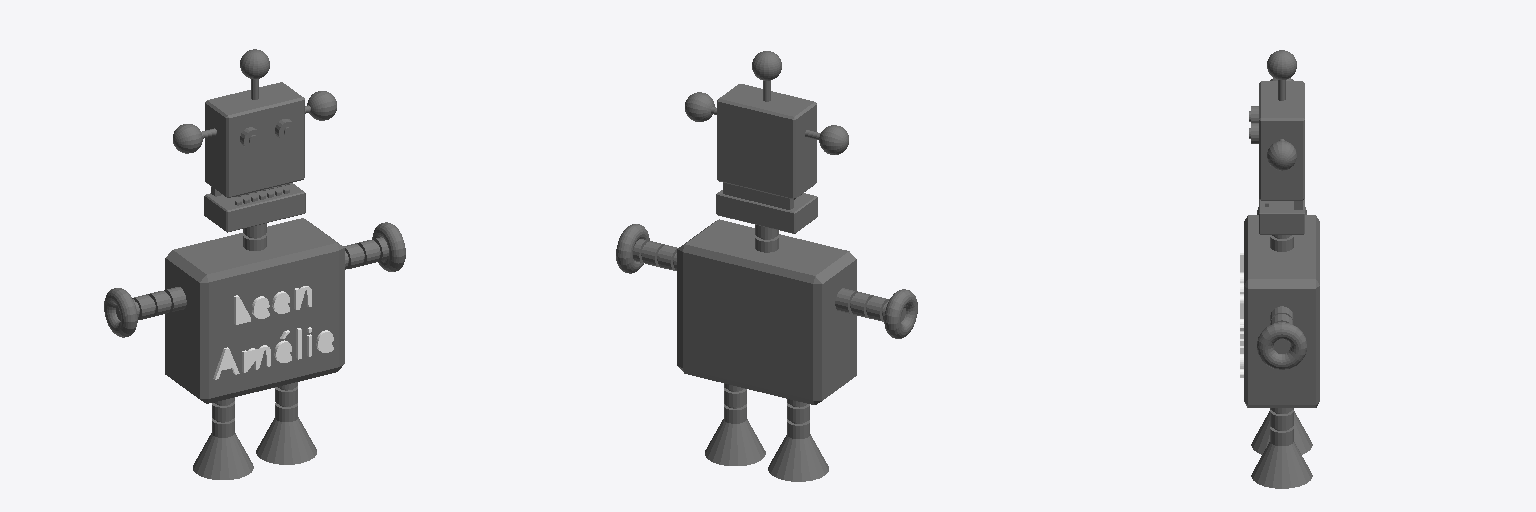
File: rob_obj.obj
3 views of the same model, side by side, from view 1: azimuth 30°, elevation 25°; view 2: azimuth 150°, elevation 25°; view 3: azimuth 270°, elevation 25° (orthographic).
Visible parts, largest first — view 1: pCube18, pCylinder15 polySurface3, pCylinder15 polySurface4, pCone2, pCone3, pTorus3, pTorus2, typeMesh1, typeMesh2, pCylinder15 polySurface13, pCylinder15 polySurface11, pCylinder15 polySurface15; view 2: pCube18, pCylinder15 polySurface3, pCone3, pCone2, pCylinder15 polySurface4, pTorus3, pTorus2, pCylinder15 polySurface30, pCylinder15 polySurface11, pCylinder15 polySurface13, pCylinder15 polySurface15; view 3: pCube18, pCylinder15 polySurface3, pCone2, pTorus2, pCylinder15 polySurface4, pCone3, pCylinder15 polySurface11, pCylinder15 polySurface15.
Boxes of the visible parts, x1,y1,x2,y2 form: pCube18: [165, 218, 344, 403]; pCylinder15 polySurface3: [205, 82, 304, 197]; pCylinder15 polySurface4: [204, 183, 305, 232]; pCone2: [256, 382, 316, 464]; pCone3: [193, 397, 253, 479]; pTorus3: [104, 287, 186, 337]; pTorus2: [343, 222, 405, 271]; typeMesh1: [213, 327, 333, 379]; typeMesh2: [234, 286, 311, 324]; pCylinder15 polySurface13: [173, 124, 202, 153]; pCylinder15 polySurface11: [240, 49, 269, 79]; pCylinder15 polySurface15: [307, 91, 336, 120]; pCube18: [677, 219, 856, 404]; pCylinder15 polySurface3: [717, 84, 816, 199]; pCone3: [768, 399, 828, 481]; pCone2: [705, 383, 765, 465]; pCylinder15 polySurface4: [716, 190, 817, 233]; pTorus3: [835, 288, 917, 338]; pTorus2: [616, 224, 677, 273]; pCylinder15 polySurface30: [723, 183, 793, 209]; pCylinder15 polySurface11: [752, 51, 781, 80]; pCylinder15 polySurface13: [819, 125, 848, 154]; pCylinder15 polySurface15: [685, 92, 714, 121]; pCube18: [1244, 215, 1319, 407]; pCylinder15 polySurface3: [1259, 81, 1304, 200]; pCone2: [1251, 408, 1312, 488]; pTorus2: [1257, 306, 1306, 369]; pCylinder15 polySurface4: [1259, 199, 1304, 234]; pCone3: [1251, 409, 1312, 454]; pCylinder15 polySurface11: [1267, 50, 1296, 79]; pCylinder15 polySurface15: [1267, 141, 1296, 170].
Size of the model in its own units: 3.57 by 4.93 by 0.8707.